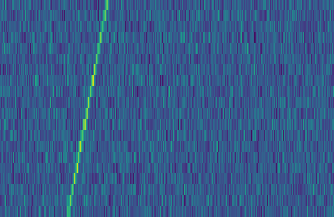signal: (61, 0, 110, 217)
